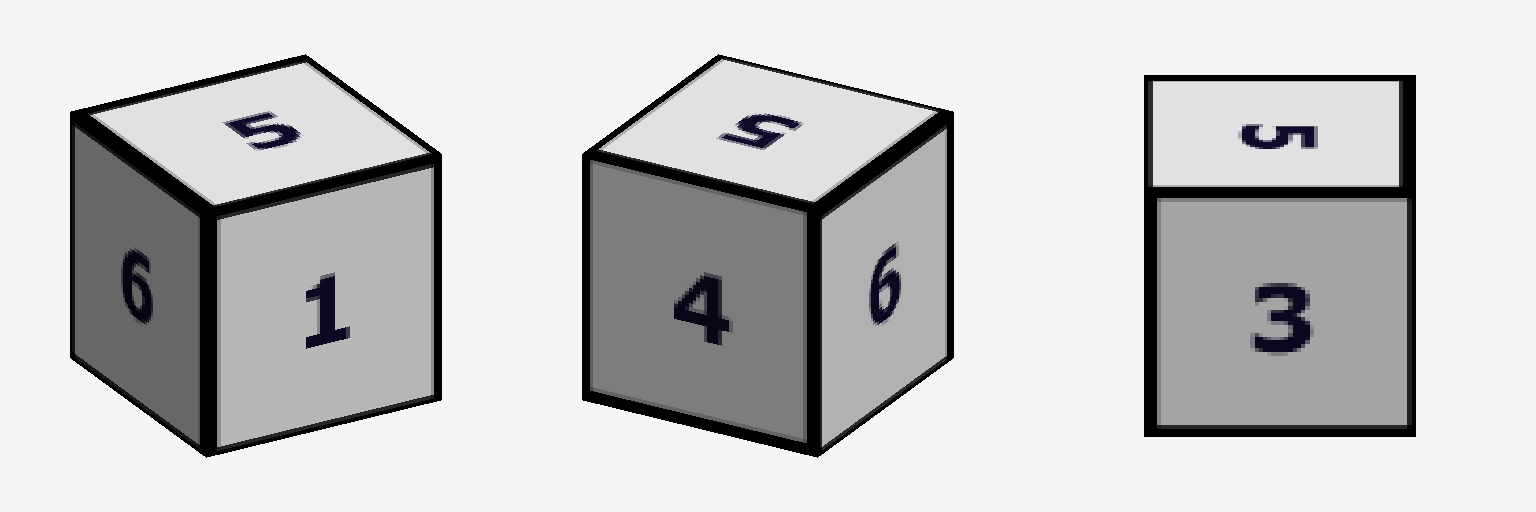
The picture shows the model from 3 angles: view 1: azimuth 30°, elevation 25°; view 2: azimuth 150°, elevation 25°; view 3: azimuth 270°, elevation 25°; orthographic projection.
Visible parts, largest first — view 1: Cube; view 2: Cube; view 3: Cube.
Boxes of the visible parts, <box> form: Cube: <box>70,54,441,457</box>; Cube: <box>582,54,953,457</box>; Cube: <box>1144,75,1415,436</box>.
Size of the model in its own units: 2 by 2 by 2.
1 materials, 1 textured.